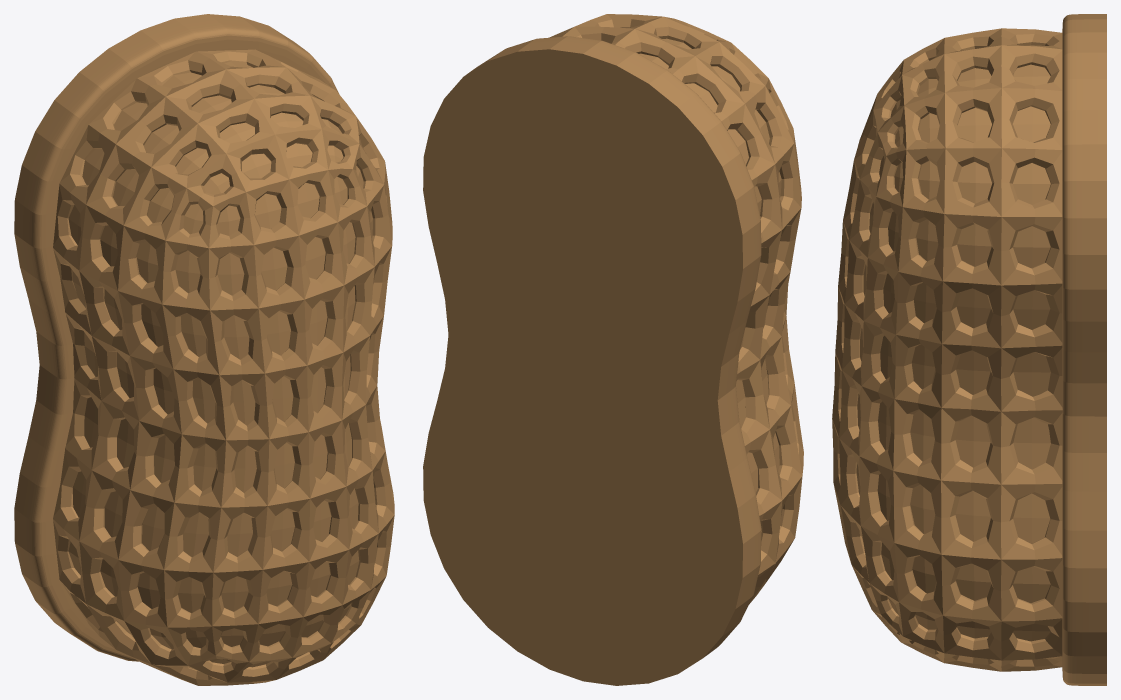
File: peanut.glb
The picture shows the model from 3 angles, left to right: view 1: azimuth 30°, elevation 25°; view 2: azimuth 150°, elevation 25°; view 3: azimuth 270°, elevation 25°; orthographic projection.
Parts seen in each view (by area): view 1: Plane.151; view 2: Plane.151; view 3: Plane.151.
Boxes of the visible parts, x1=… form: Plane.151: x1=14, y1=14, x2=394, y2=685; Plane.151: x1=423, y1=14, x2=803, y2=685; Plane.151: x1=832, y1=14, x2=1106, y2=685.
Size of the model in its own units: 7.96 by 14.92 by 5.85.
